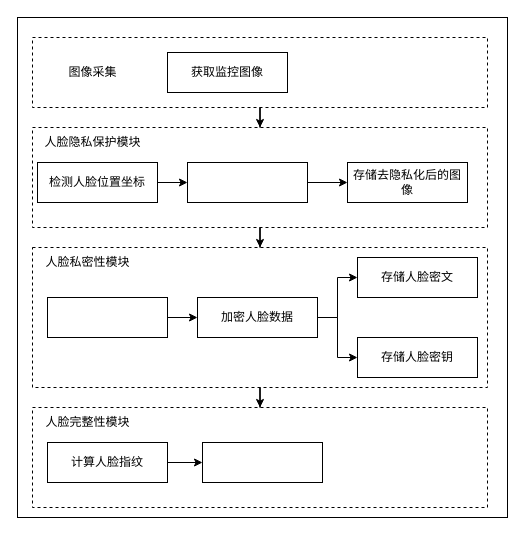
Some shapes in this 525 by 535 pixel diagram are drawn without their labels. Here are the shapes that lost their labels. From the top down, the centre of each, then its label:
At point 247,182: "face mask 替换人脸".
At point 107,317: "提取人脸数据".
At point 262,462: "区块链存储人脸指纹".
